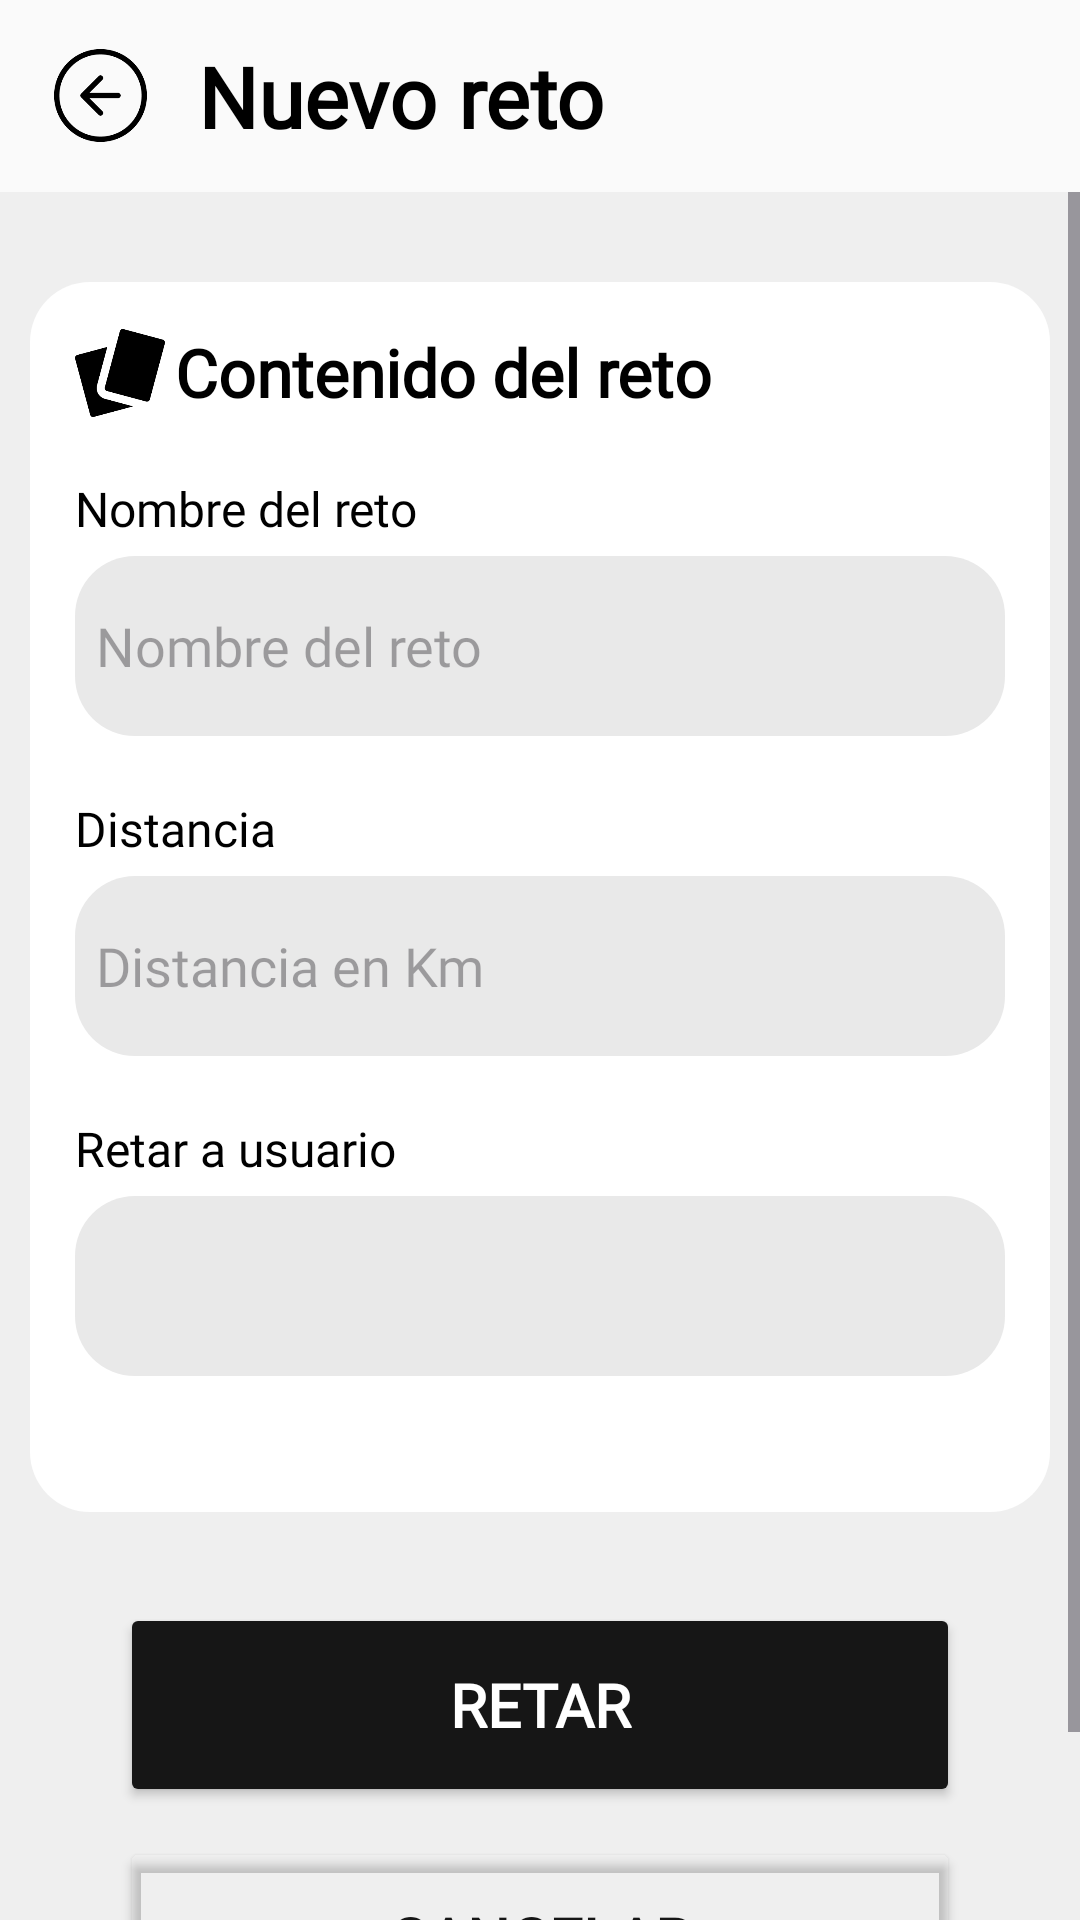

Icons on this 1080x1920 Android screen, each with the point to tap as (x=x, y=y):
Boton para volver atrás: (x=100, y=95)
